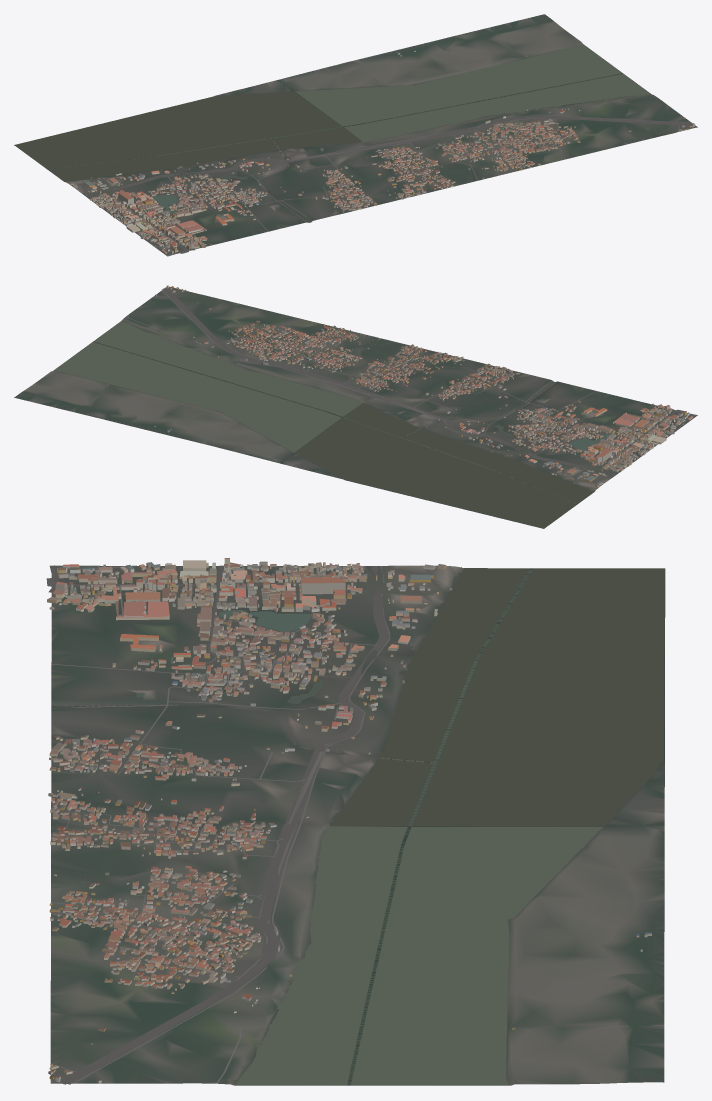
The picture shows the model from 3 angles, top to bottom: view 1: azimuth 30°, elevation 25°; view 2: azimuth 150°, elevation 25°; view 3: azimuth 270°, elevation 25°; orthographic projection. The views are drawn at different scales.
Visible parts, largest first — view 1: ground, water, buildings, roads; view 2: ground, water, buildings, roads; view 3: ground, water, buildings, roads.
Part boxes in pixels (left/top/right/bottom): ground: left=14, top=14, right=697, bottom=255; water: left=15, top=44, right=674, bottom=220; buildings: left=70, top=50, right=694, bottom=253; roads: left=85, top=28, right=694, bottom=256; ground: left=14, top=286, right=696, bottom=528; water: left=53, top=292, right=607, bottom=528; buildings: left=107, top=285, right=693, bottom=487; roads: left=72, top=288, right=697, bottom=482; ground: left=50, top=565, right=665, bottom=1085; water: left=51, top=567, right=664, bottom=1085; buildings: left=47, top=558, right=651, bottom=1083; roads: left=46, top=565, right=663, bottom=1084.
Bounding box in the file's own units: 2813 × 36.4 × 1413.
